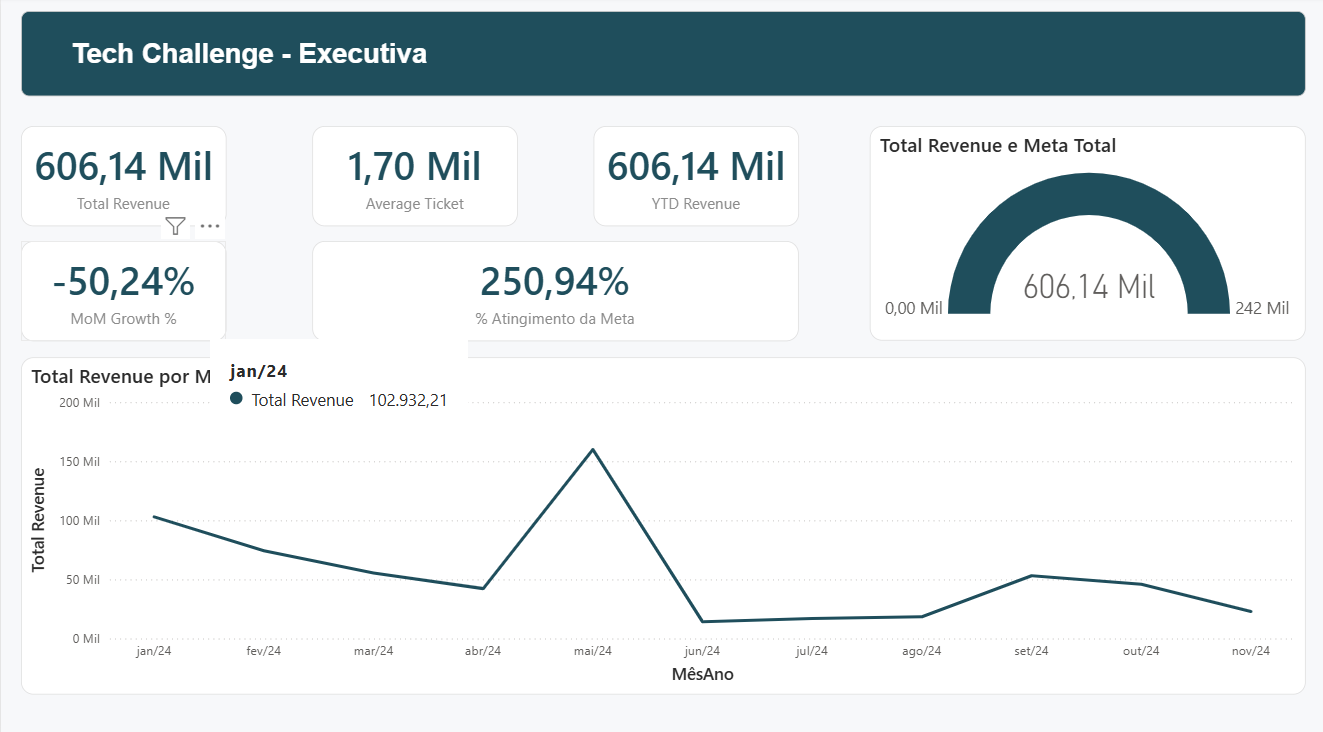

This screenshot's page, from the dashboard's own definition file:
{"tool":"powerbi","page":{"name":"Executiva","canvas":[1280,720],"ordinal":0},"visuals":[{"type":"card","fields":{"Values":["Fact_Pedidos.Total Revenue"]},"box":[18.7,125.3,198.7,96.5],"z":0},{"type":"card","fields":{"Values":["Fact_Pedidos.MoM Growth %"]},"box":[18.7,236.2,198.7,96.5],"z":1000},{"type":"card","fields":{"Values":["Fact_Pedidos.% Atingimento da Meta"]},"box":[301,236.2,469.4,96.5],"z":2000},{"type":"card","fields":{"Values":["Fact_Pedidos.Average Ticket"]},"box":[301,125.3,198.7,96.5],"z":3000},{"type":"card","fields":{"Values":["Fact_Pedidos.YTD Revenue"]},"box":[571.7,125.3,198.7,96.5],"z":4000},{"type":"gauge","fields":{"Y":["Fact_Pedidos.Total Revenue"],"MaxValue":["Fact_Pedidos.Meta Total"]},"box":[838.1,125.3,420.5,207.4],"z":5000},{"type":"lineChart","fields":{"Category":["Dim_Calendario.MêsAno"],"Y":["Fact_Pedidos.Total Revenue"]},"box":[18.7,348.5,1239.8,325.4],"z":6000},{"type":"textbox","box":[18.7,14.4,1239.8,82.1],"z":7000}]}

Visuals, with their boxes in screenshot pixels (x1, y1, x2, y2), scaled from the page's 1280x720 canvas onto the 1323x732 screenshot:
card - Fact_Pedidos.Total Revenue: locate(19, 127, 225, 225)
card - Fact_Pedidos.MoM Growth %: locate(19, 240, 225, 338)
card - Fact_Pedidos.% Atingimento da Meta: locate(311, 240, 796, 338)
card - Fact_Pedidos.Average Ticket: locate(311, 127, 516, 225)
card - Fact_Pedidos.YTD Revenue: locate(591, 127, 796, 225)
gauge - Fact_Pedidos.Total Revenue x Fact_Pedidos.Meta Total: locate(866, 127, 1301, 338)
lineChart - Dim_Calendario.MêsAno x Fact_Pedidos.Total Revenue: locate(19, 354, 1301, 685)
textbox: locate(19, 15, 1301, 98)
